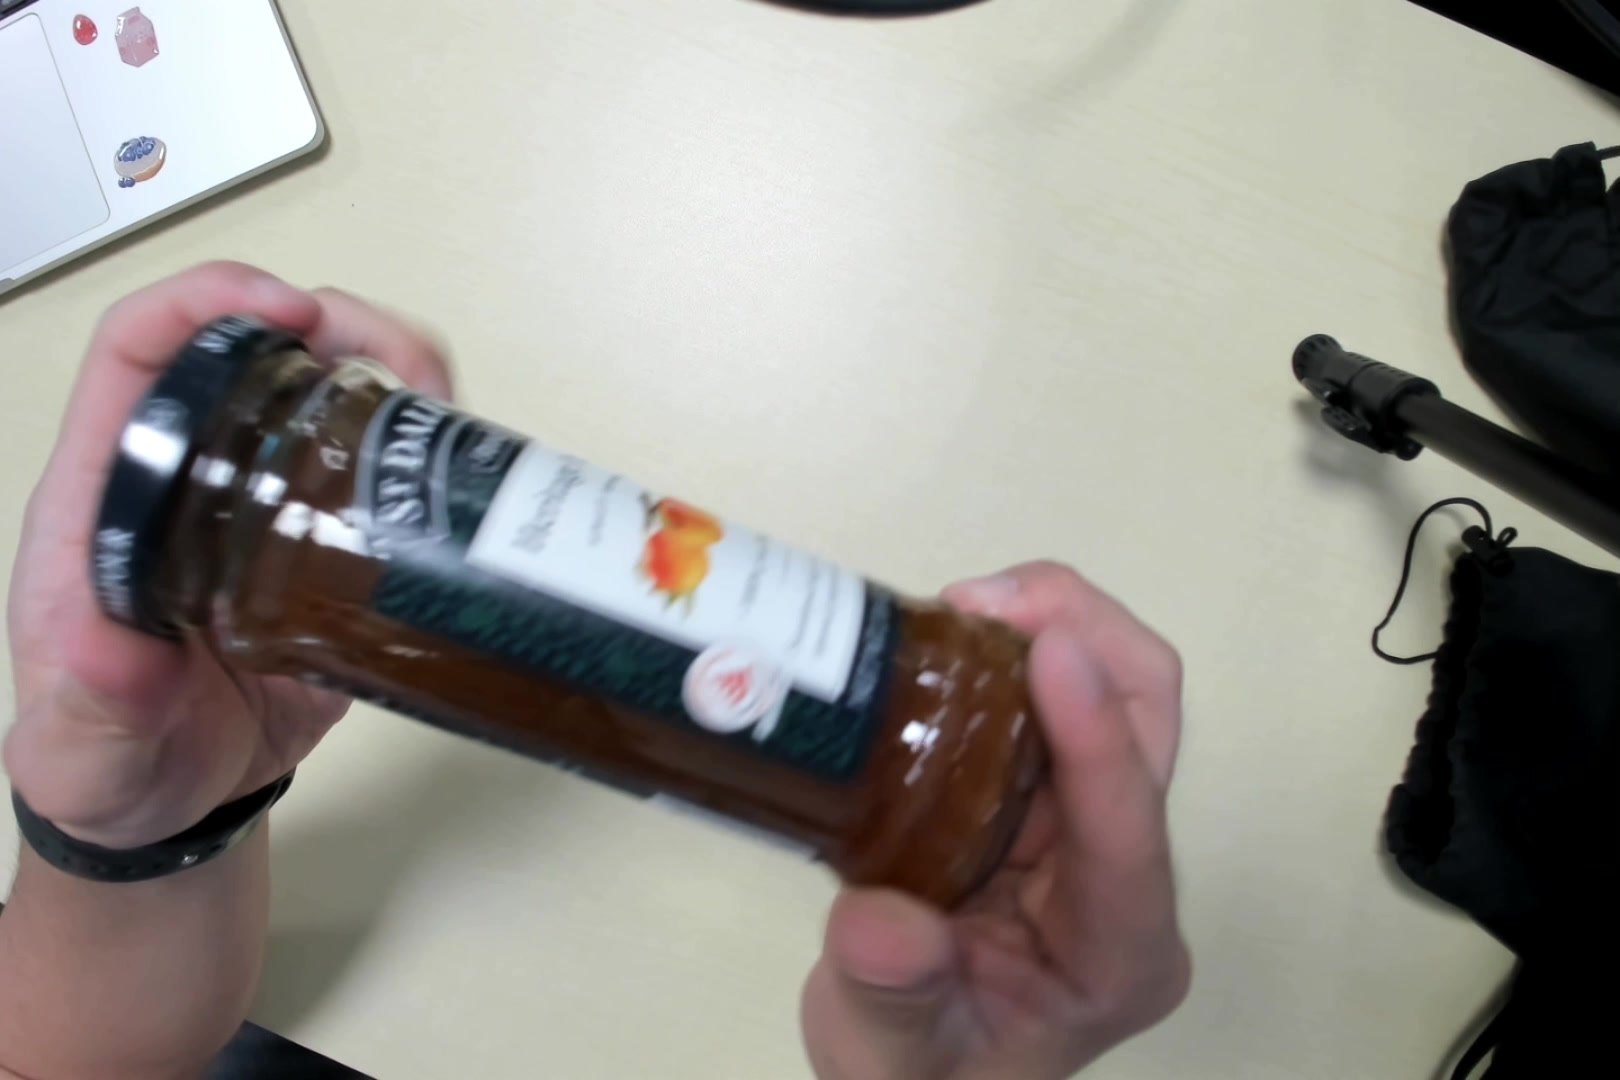Jam_200-299g_Halal_Healthy: (92, 303, 1053, 915)
